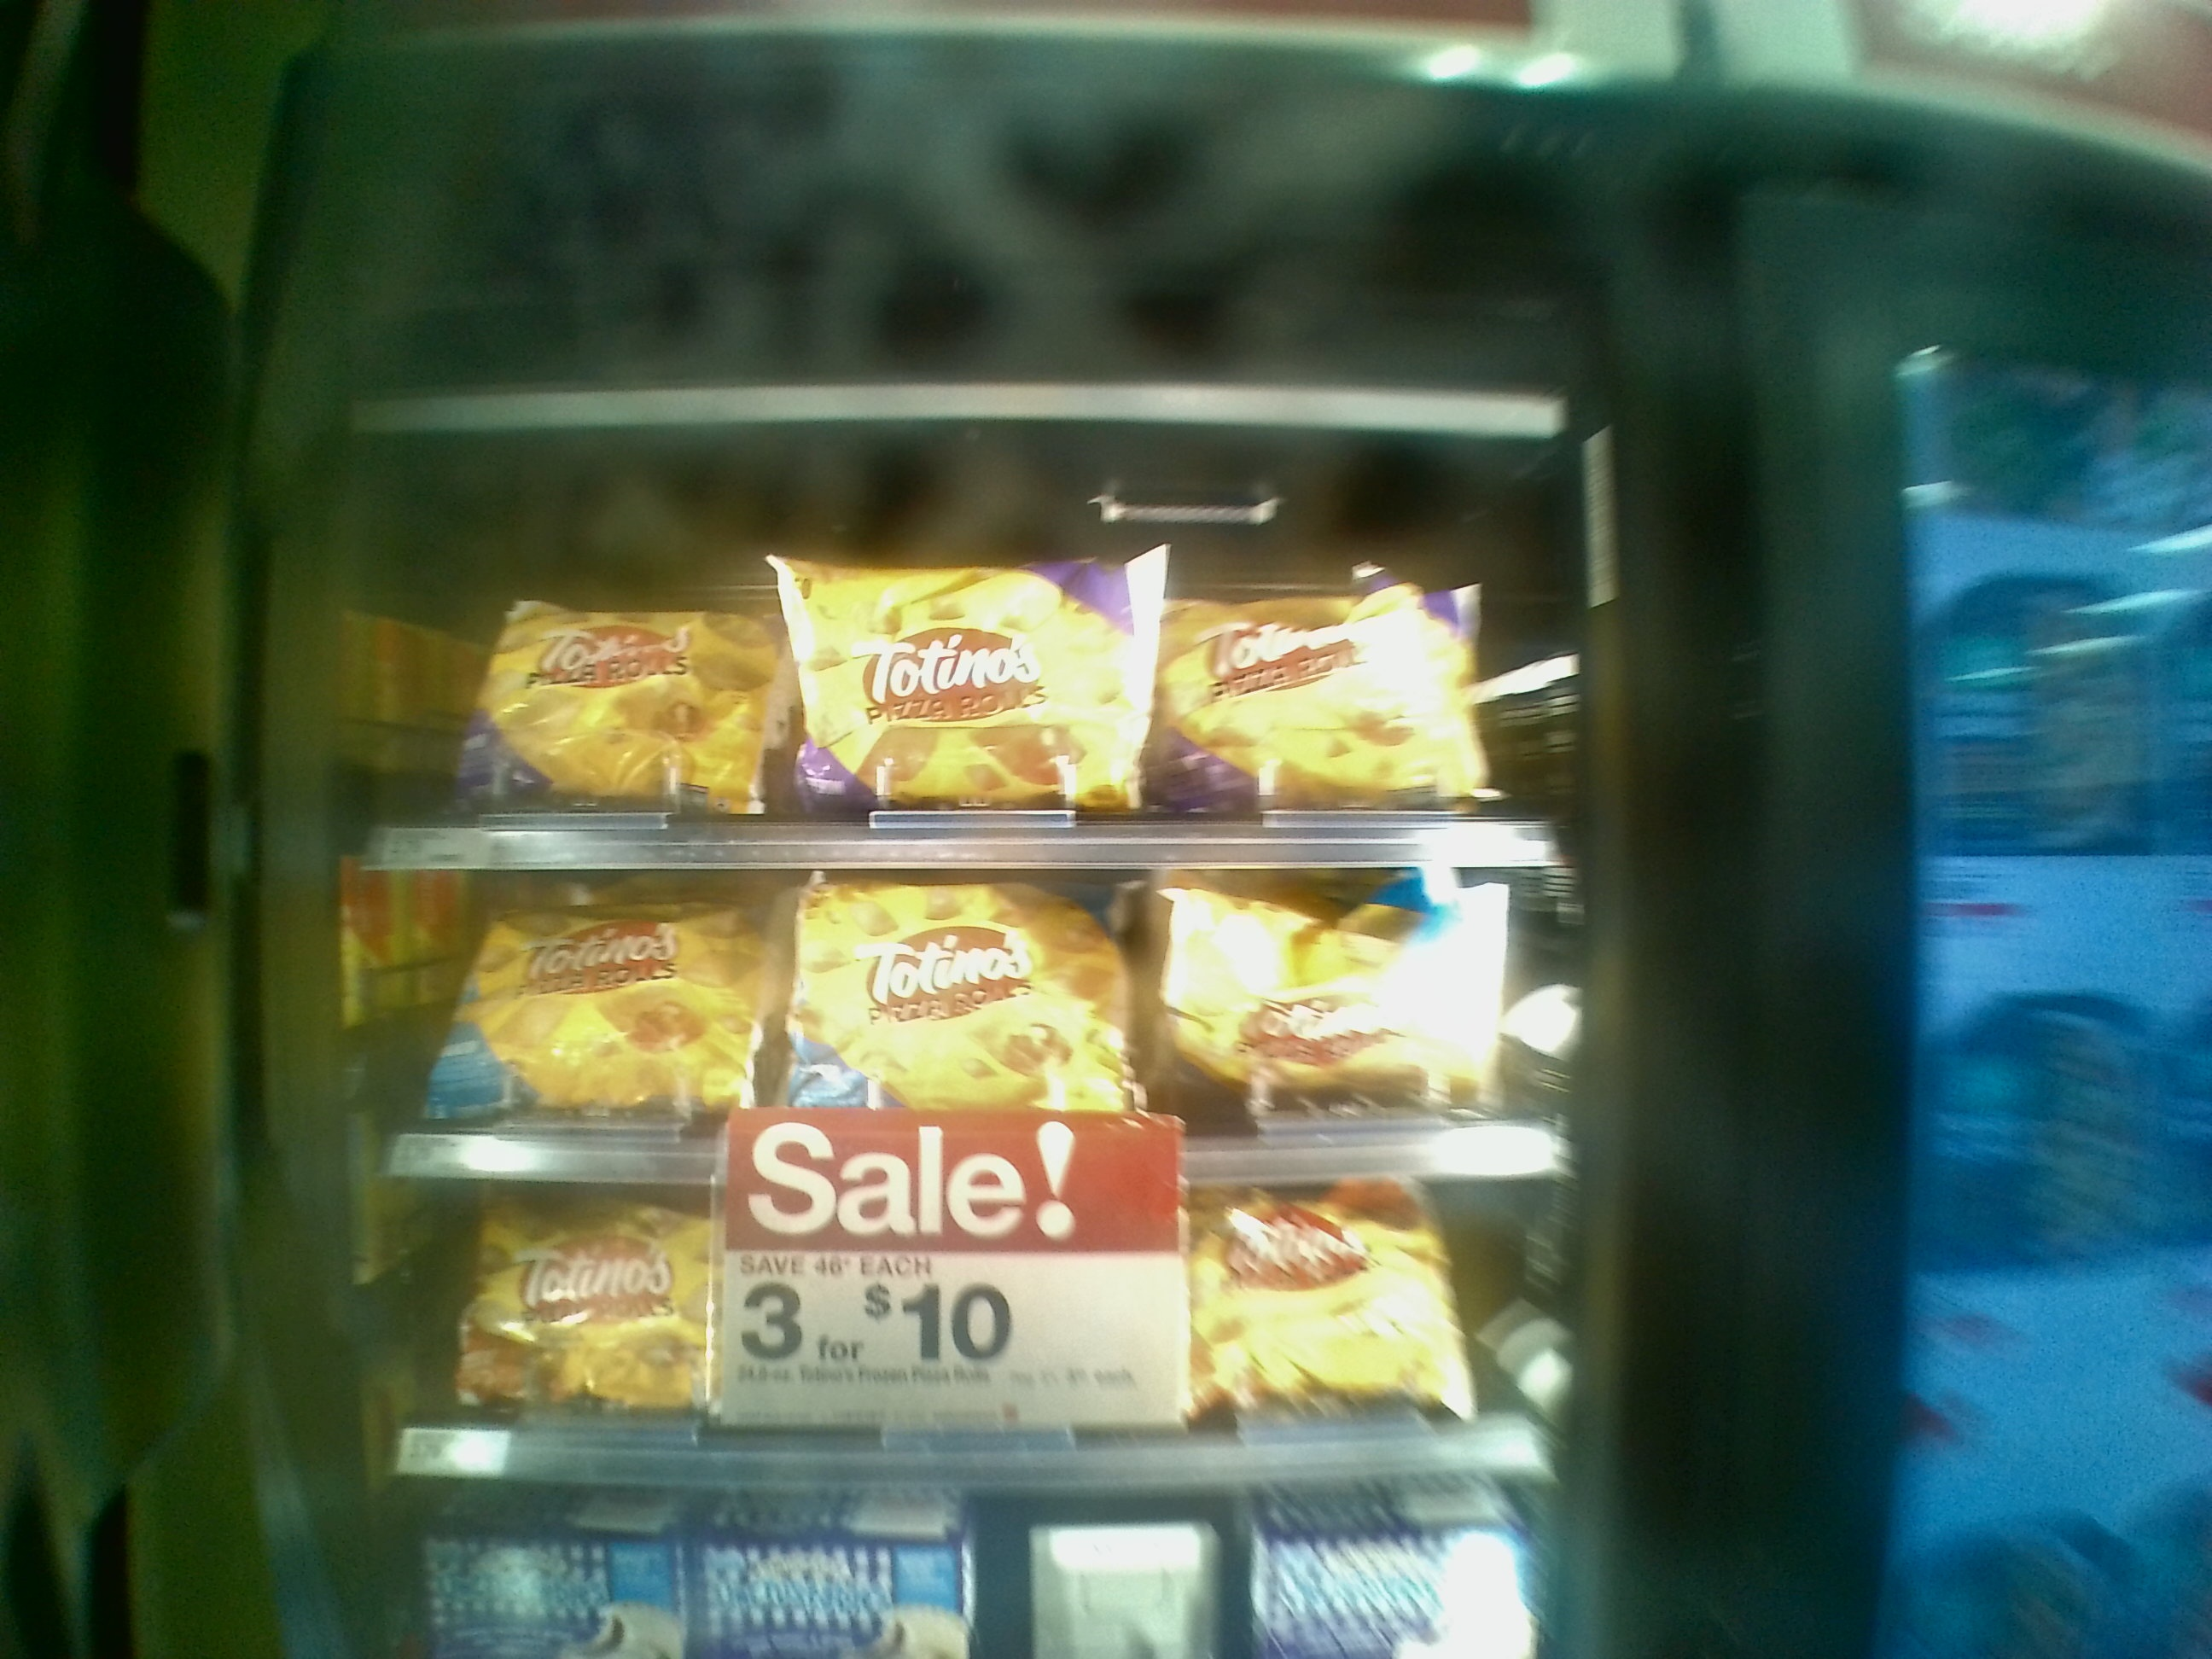shelf: (334, 486, 1571, 856), (355, 835, 1559, 1169), (354, 1145, 1555, 1466)
